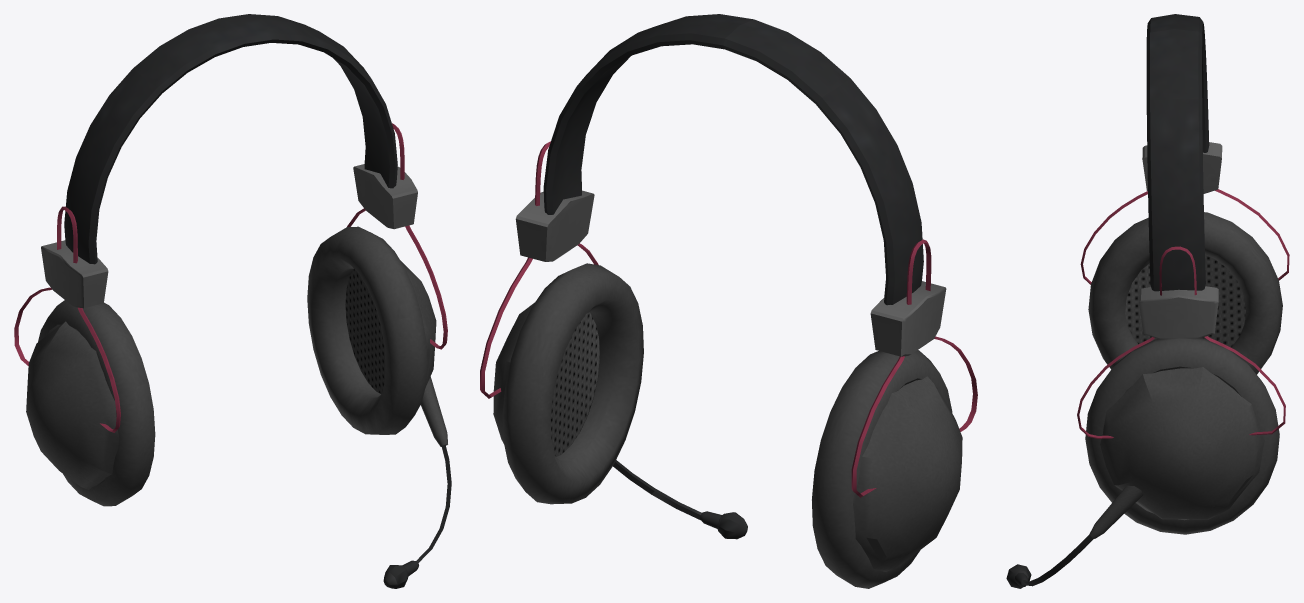
The model's file is Headset.fbx.
3 renders of one model, left to right at view 1: azimuth 30°, elevation 25°; view 2: azimuth 150°, elevation 25°; view 3: azimuth 270°, elevation 25°, orthographic. The views are drawn at different scales.
Parts seen in each view (by area): view 1: Office_cube_set_3; view 2: Office_cube_set_3; view 3: Office_cube_set_3.
Boxes of the visible parts, box(x1,y1,x2,y2) form: Office_cube_set_3: box(14, 14, 451, 588); Office_cube_set_3: box(480, 14, 977, 588); Office_cube_set_3: box(1006, 14, 1289, 588).
Size of the model in its own units: 21.89 by 28.36 by 14.07.
